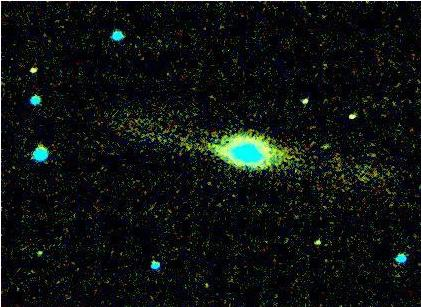star: (310, 133, 340, 163)
